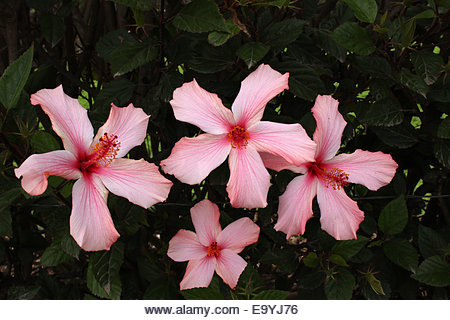Hibiscus: (166, 59, 322, 209), (25, 84, 164, 248), (285, 93, 395, 248), (161, 198, 276, 301)
